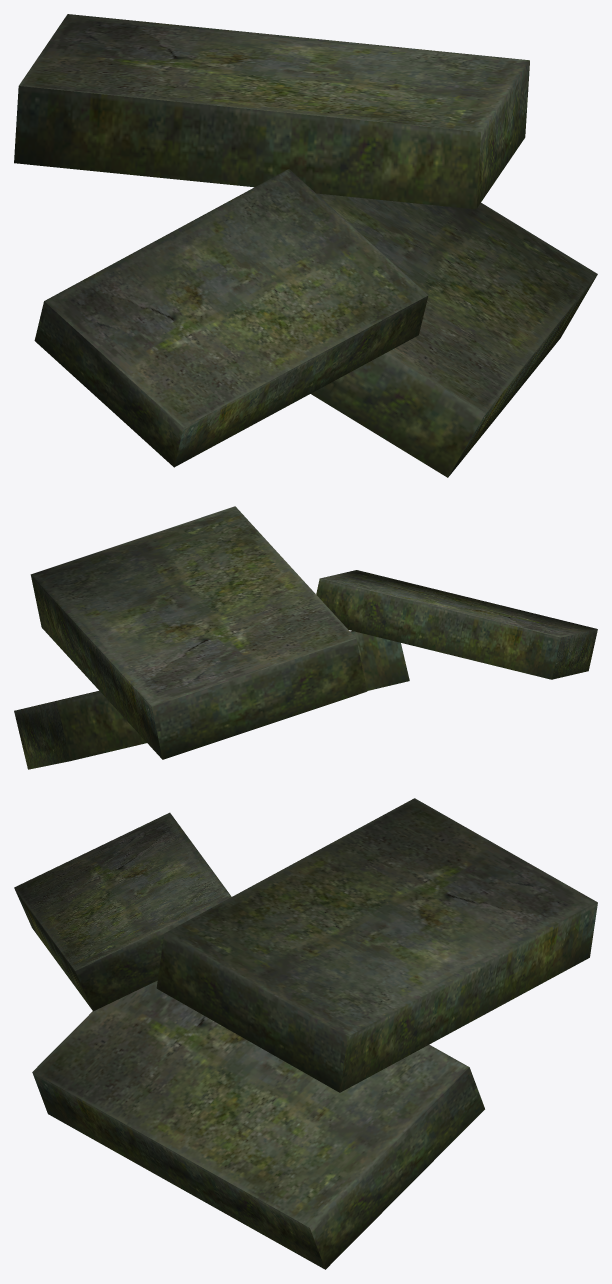
Rendered from fxmg_shitou12.FBX.
3 views of the same model, one above another, from view 1: azimuth 30°, elevation 25°; view 2: azimuth 150°, elevation 25°; view 3: azimuth 270°, elevation 25° (orthographic). The views are drawn at different scales.
Parts seen in each view (by area): view 1: KLMSM_shitou12; view 2: KLMSM_shitou12; view 3: KLMSM_shitou12.
Part boxes in pixels (x1,y1,x2,y2): KLMSM_shitou12: (14, 14, 597, 477); KLMSM_shitou12: (14, 506, 597, 769); KLMSM_shitou12: (14, 798, 597, 1269).
Bounding box in the file's own units: 236 × 117 × 226.
